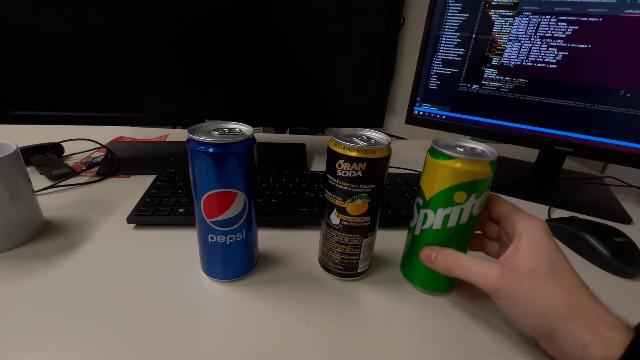OranSoda: (316, 127, 392, 283)
Pepsi: (185, 121, 262, 283)
Sprite: (398, 136, 498, 296)
